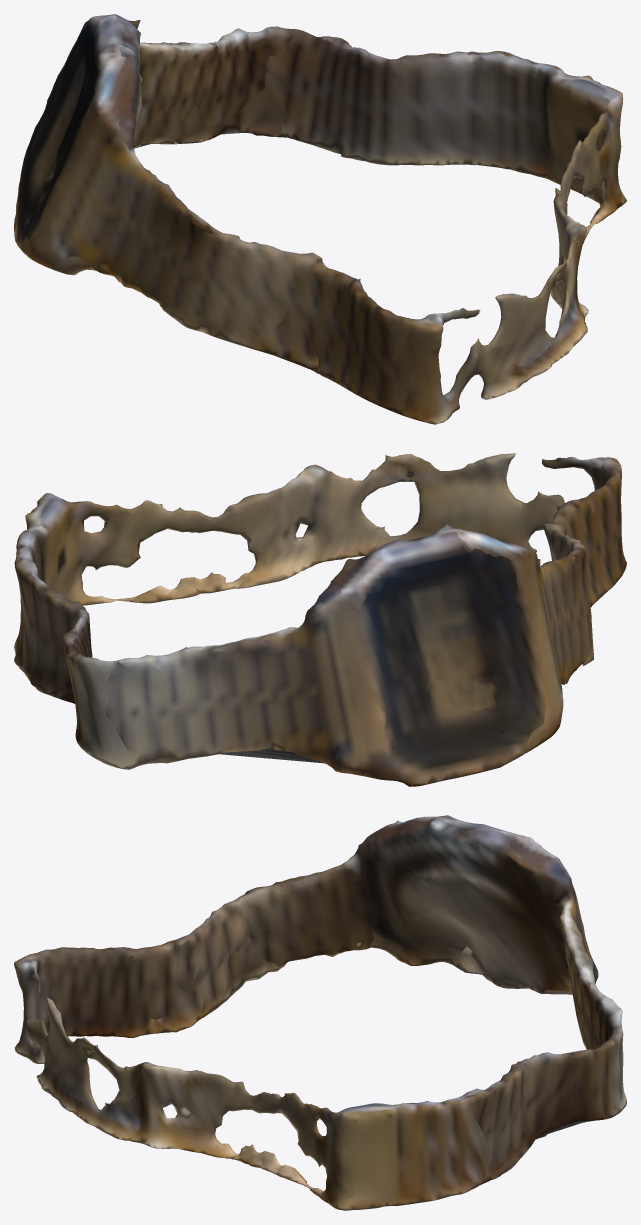
The model's file is band.fbx.
The picture shows the model from 3 angles, top to bottom: view 1: azimuth 30°, elevation 25°; view 2: azimuth 150°, elevation 25°; view 3: azimuth 270°, elevation 25°; orthographic projection. The views are drawn at different scales.
Parts seen in each view (by area): view 1: mesh; view 2: mesh; view 3: mesh.
Part boxes in pixels (x1=…): mesh: x1=14, y1=14, x2=626, y2=424; mesh: x1=14, y1=453, x2=626, y2=786; mesh: x1=14, y1=815, x2=626, y2=1210.
Bounding box in the file's own units: 8.84 × 3.41 × 9.64.
1 material, 1 textured.
